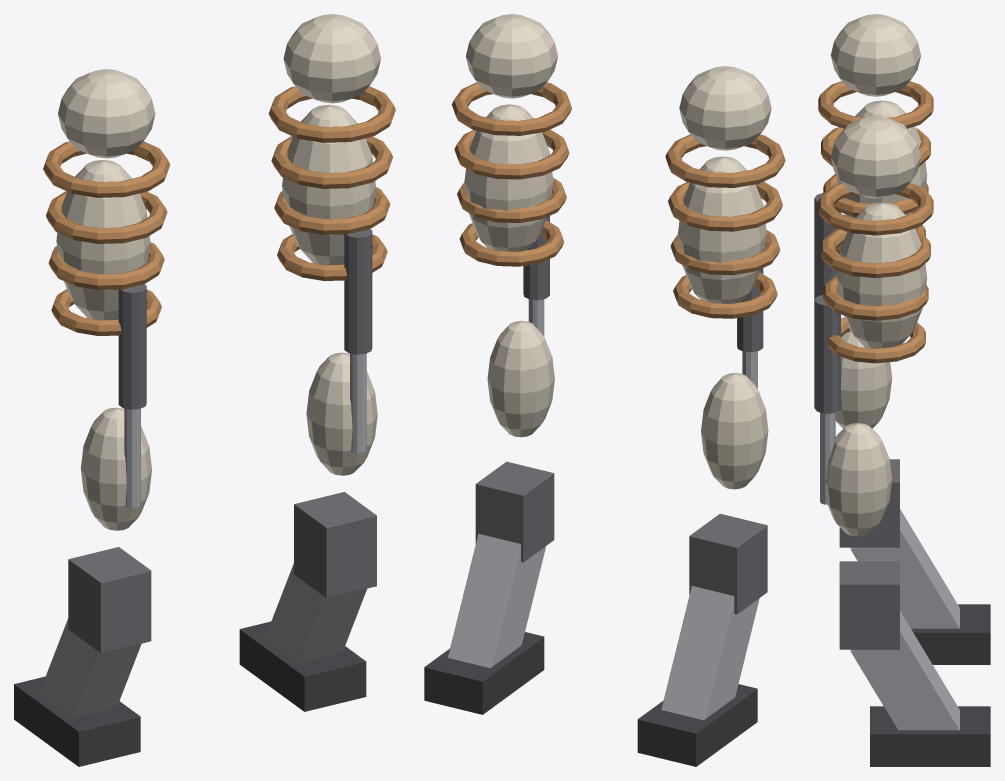
File: sinew-stilt.glb
3 views of the same model, side by side, from view 1: azimuth 30°, elevation 25°; view 2: azimuth 150°, elevation 25°; view 3: azimuth 270°, elevation 25° (orthographic). The views are drawn at different scales.
Visible parts, largest first — view 1: ankle_r, ankle_l, thigh_l, thigh_r, hip_l, hip_r, toepad_l, toepad_r, toeleg_r, toeleg_l, calf_l, calf_r (+12 smaller); view 2: toeleg_r, toeleg_l, thigh_l, thigh_r, calf_r, calf_l, ankle_l, hip_l, hip_r, ankle_r, toepad_l, toepad_r (+10 smaller); view 3: thigh_l, toeleg_l, calf_l, hip_r, hip_l, toepad_l, ankle_l, toeleg_r, toepad_r, calf_r, rib0_l, sleeve_l (+10 smaller).
Part boxes in pixels (x1,y1,x2,y2): ankle_r: (68, 547, 151, 653); ankle_l: (294, 492, 376, 598); thigh_l: (282, 104, 375, 265); thigh_r: (56, 160, 150, 320); hip_l: (283, 14, 380, 103); hip_r: (58, 69, 155, 158); toepad_l: (239, 621, 366, 711); toepad_r: (14, 676, 140, 766); toeleg_r: (39, 618, 141, 718); toeleg_l: (264, 563, 366, 663); calf_l: (306, 352, 377, 475); calf_r: (80, 407, 151, 530); toeleg_r: (661, 586, 759, 720); toeleg_l: (448, 533, 545, 667); thigh_l: (464, 104, 553, 251); thigh_r: (678, 156, 766, 303); calf_r: (701, 373, 768, 489); calf_l: (487, 321, 554, 437); ankle_l: (475, 461, 554, 562); hip_l: (465, 14, 557, 98); hip_r: (679, 66, 771, 150); ankle_r: (689, 513, 767, 614); toepad_l: (424, 632, 544, 714); toepad_r: (637, 684, 757, 766); thigh_l: (836, 202, 927, 348); toeleg_l: (850, 611, 959, 730); calf_l: (825, 423, 892, 536); hip_r: (830, 14, 920, 96); hip_l: (830, 116, 920, 198); toepad_l: (870, 706, 990, 766); ankle_l: (839, 561, 899, 649); toeleg_r: (850, 509, 959, 628); toepad_r: (911, 604, 990, 664); calf_r: (835, 331, 892, 428); rib0_l: (818, 183, 933, 235); sleeve_l: (814, 295, 840, 413).
Bounding box in the file's own units: 0.596 × 1.16 × 0.292.
